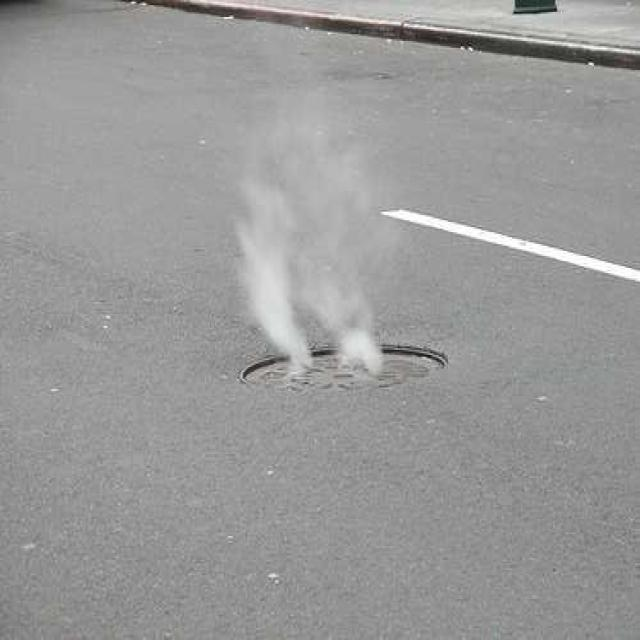manhole: (241, 345, 449, 396)
